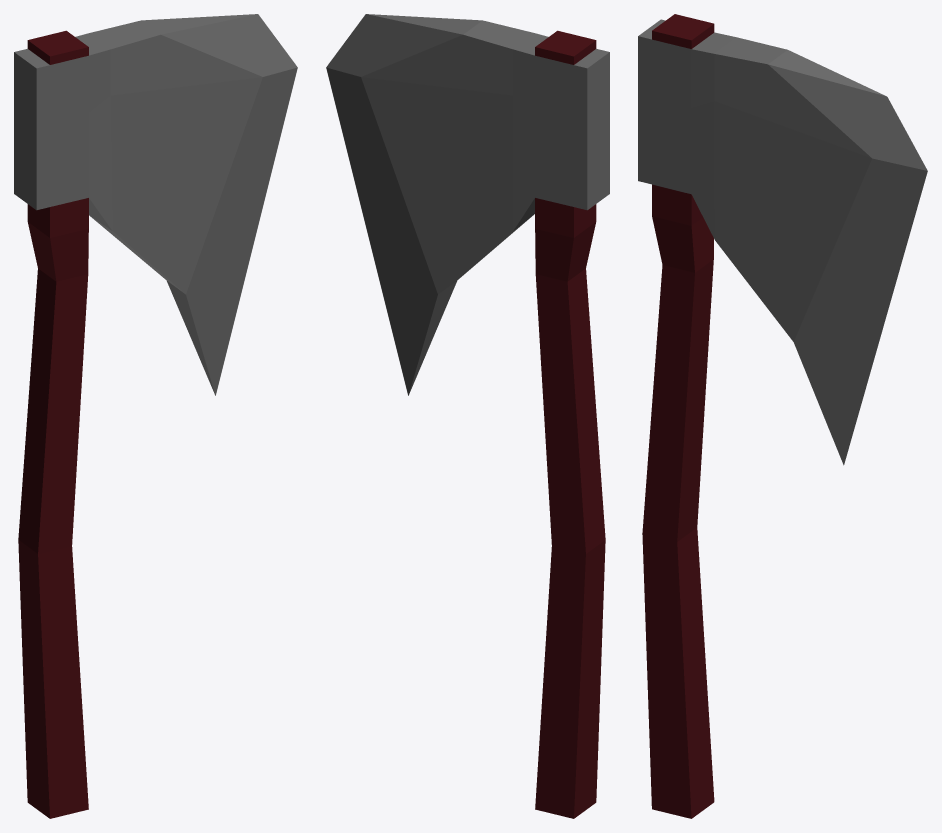
The model's file is throwing-axe.fbx.
3 views of the same model, side by side, from view 1: azimuth 30°, elevation 25°; view 2: azimuth 150°, elevation 25°; view 3: azimuth 330°, elevation 25° (orthographic). The views are drawn at different scales.
Parts seen in each view (by area): view 1: Cube.001; view 2: Cube.001; view 3: Cube.001.
Part boxes in pixels (bbox=[...]): Cube.001: bbox=[14, 14, 297, 818]; Cube.001: bbox=[326, 14, 609, 818]; Cube.001: bbox=[638, 14, 927, 818].
Bounding box in the file's own units: 6.29 × 43.17 × 115.
